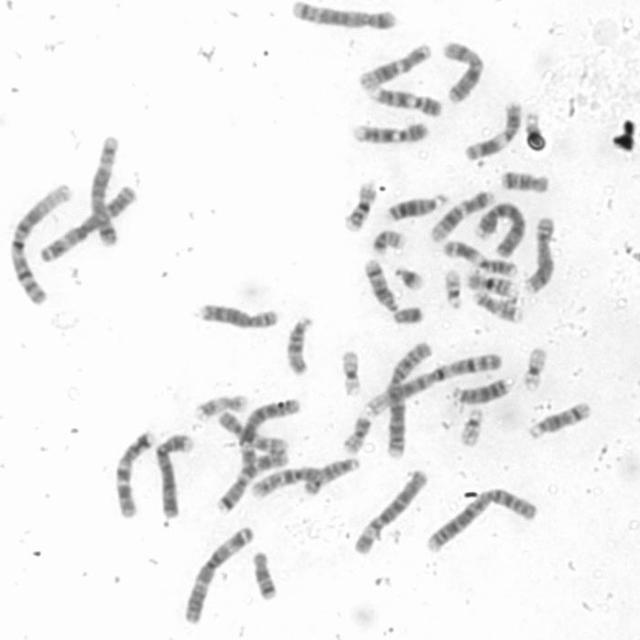A1: (360, 350, 504, 418), (6, 180, 74, 307)
A2: (421, 483, 539, 555), (381, 336, 433, 461)
A3: (36, 182, 139, 264), (178, 521, 256, 624)
B4: (151, 429, 196, 519), (472, 199, 526, 258)
B5: (87, 131, 122, 247), (288, 0, 398, 31)
C10: (216, 408, 288, 455), (247, 466, 322, 502)
C11: (460, 98, 523, 163), (440, 237, 519, 278)
C12: (355, 39, 434, 93), (426, 186, 495, 243)
C6: (350, 465, 429, 557), (235, 395, 302, 467)
C7: (213, 446, 290, 514), (110, 426, 156, 519)
C8: (519, 213, 559, 296), (196, 298, 279, 330)
C9: (368, 83, 445, 119), (349, 119, 429, 145)
D13: (383, 190, 448, 223), (449, 374, 511, 404)
D14: (525, 397, 593, 441), (361, 255, 399, 314)
D15: (302, 454, 361, 495), (283, 313, 314, 377)
E16: (341, 178, 379, 233), (462, 267, 518, 297)
E17: (468, 286, 524, 324), (192, 390, 249, 420)
E18: (248, 548, 279, 601), (497, 167, 550, 194)
F19: (518, 343, 548, 393), (336, 346, 364, 398)
F20: (338, 412, 374, 454), (369, 226, 407, 256)
G21: (391, 263, 426, 291), (522, 110, 543, 144)
G22: (456, 404, 485, 447), (440, 265, 465, 310)
X: (439, 36, 486, 104)
Y: (389, 303, 424, 326)
